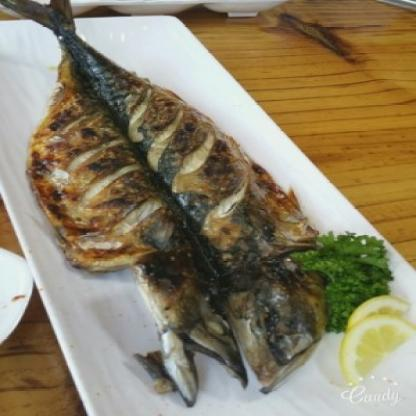Peixe: (0, 0, 326, 406)
